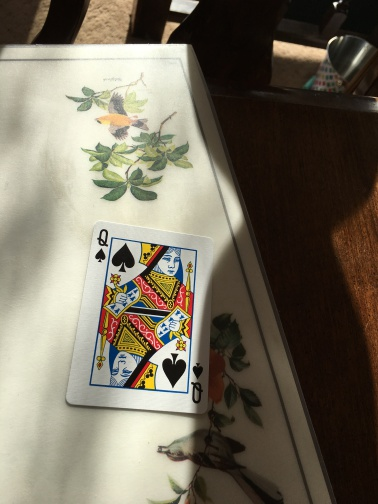queen: (65, 222, 214, 412)
